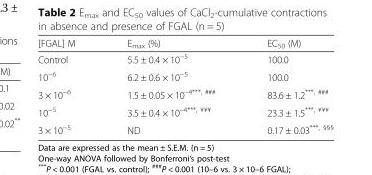table: (37, 36, 333, 135)
table column: (100, 36, 240, 135), (240, 36, 333, 135), (37, 36, 100, 135)
table column header: (37, 36, 333, 50)
table row: (37, 84, 333, 102), (37, 102, 333, 120), (37, 50, 333, 67), (37, 67, 333, 84), (37, 120, 333, 135), (37, 36, 333, 50)
